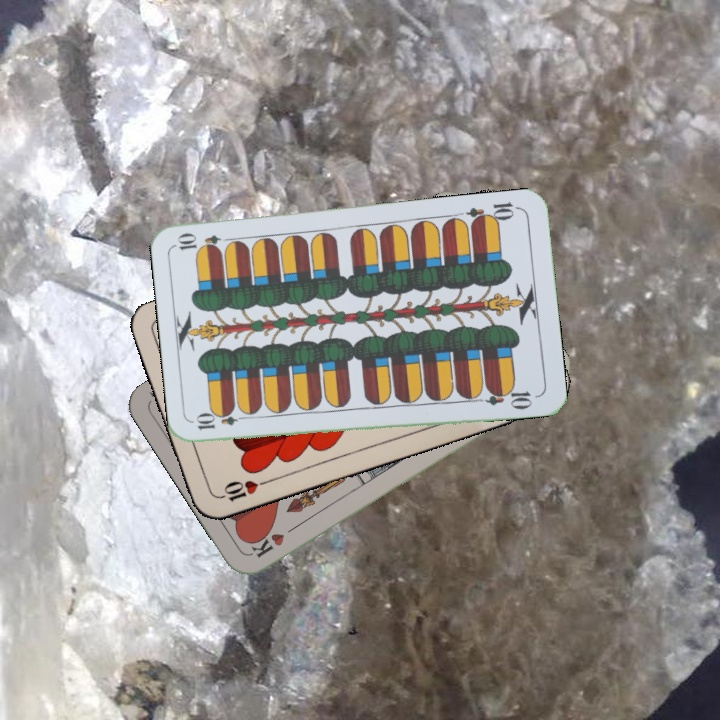E10: (463, 198, 522, 228), (192, 410, 251, 432)
H10: (213, 476, 271, 505)
HK: (246, 520, 302, 560)
